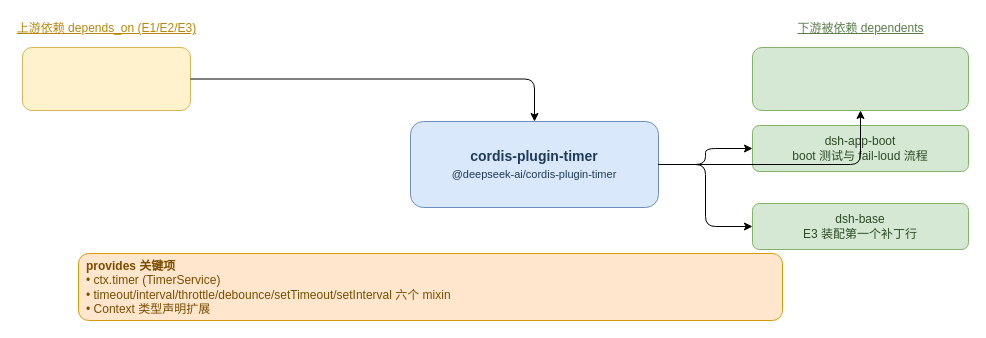
Image size: 986x338. Some labels were removed from this diagram. The shapes that lost their labels are listed below. From the top down, each one's centre as x and y in pixels, then its label:
At point 106,78: "@deepseek-ai/cordis E2 import Context/Service 基类".
At point 860,78: "cordis-plugin-hmr static inject timer; ctx.debounce 防抖".
